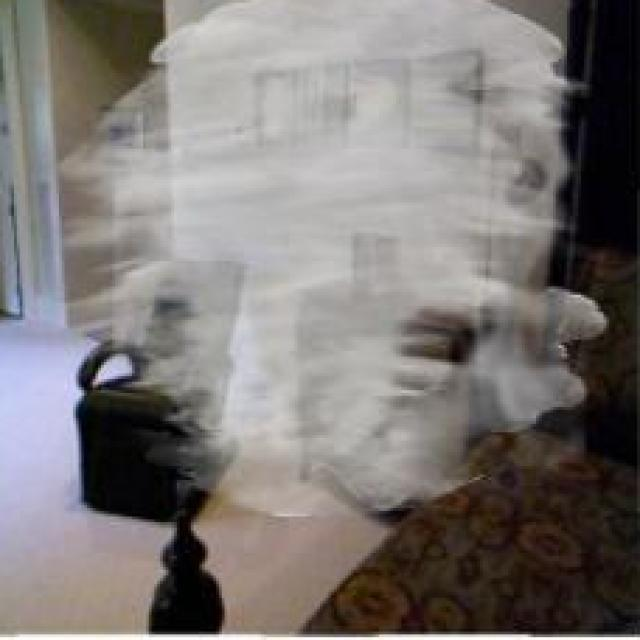fire: (48, 0, 612, 519)
